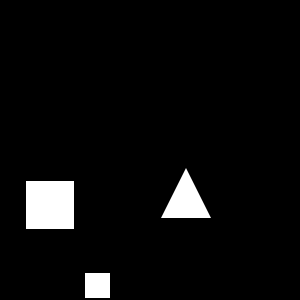circle: (26, 181, 74, 229), (85, 273, 110, 298)
triangle: (161, 168, 211, 218)
